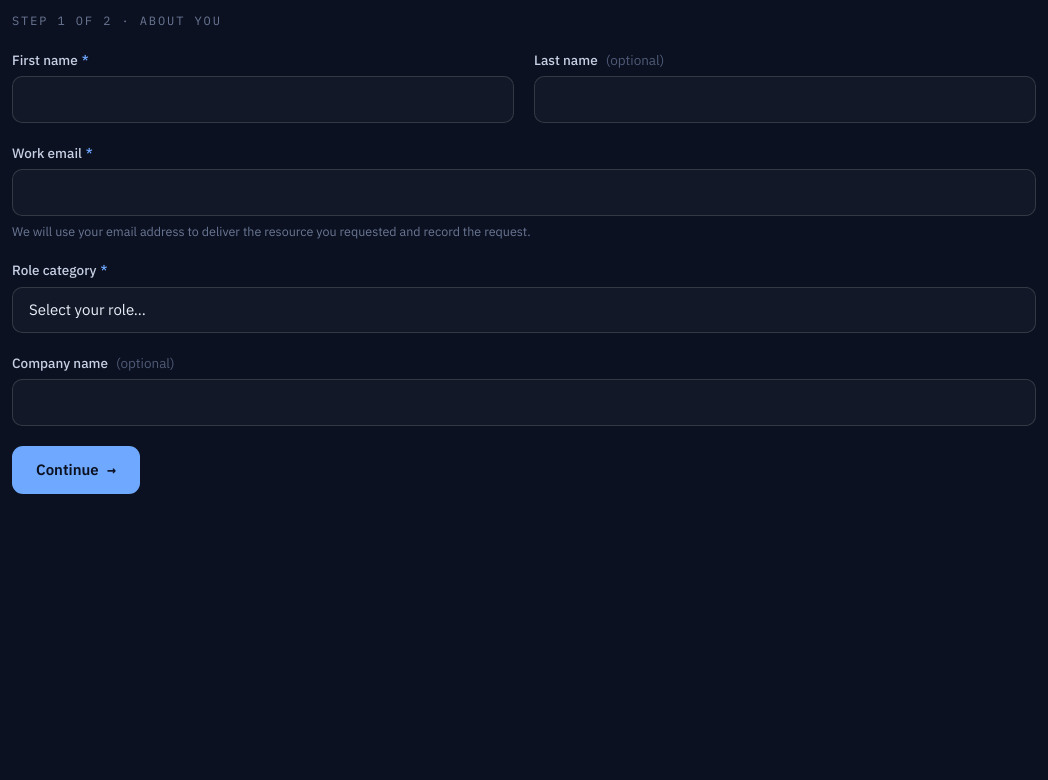
Test: LeadMagnetForm › navigates to step 2 and back with valid input
Type "Ada" into the field labelled "First name*" at (263, 100), box [12,76,514,123]
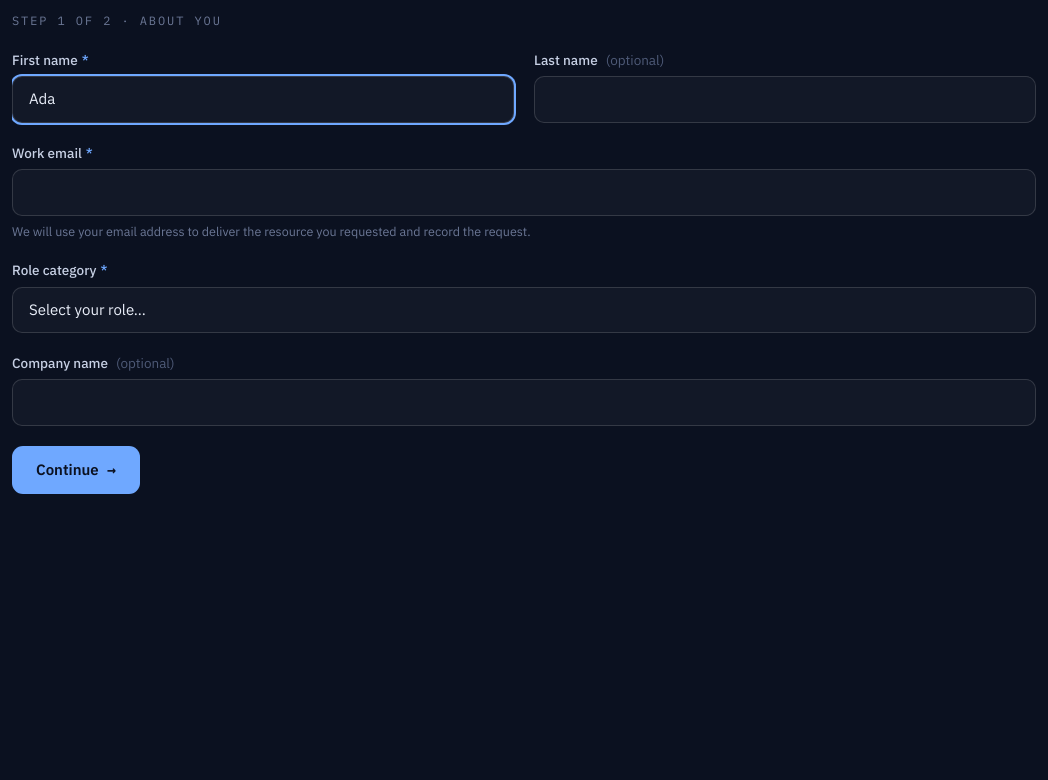
Type "ada@example.com" into the field labelled "Work email*" at (524, 192), box [12,169,1036,216]
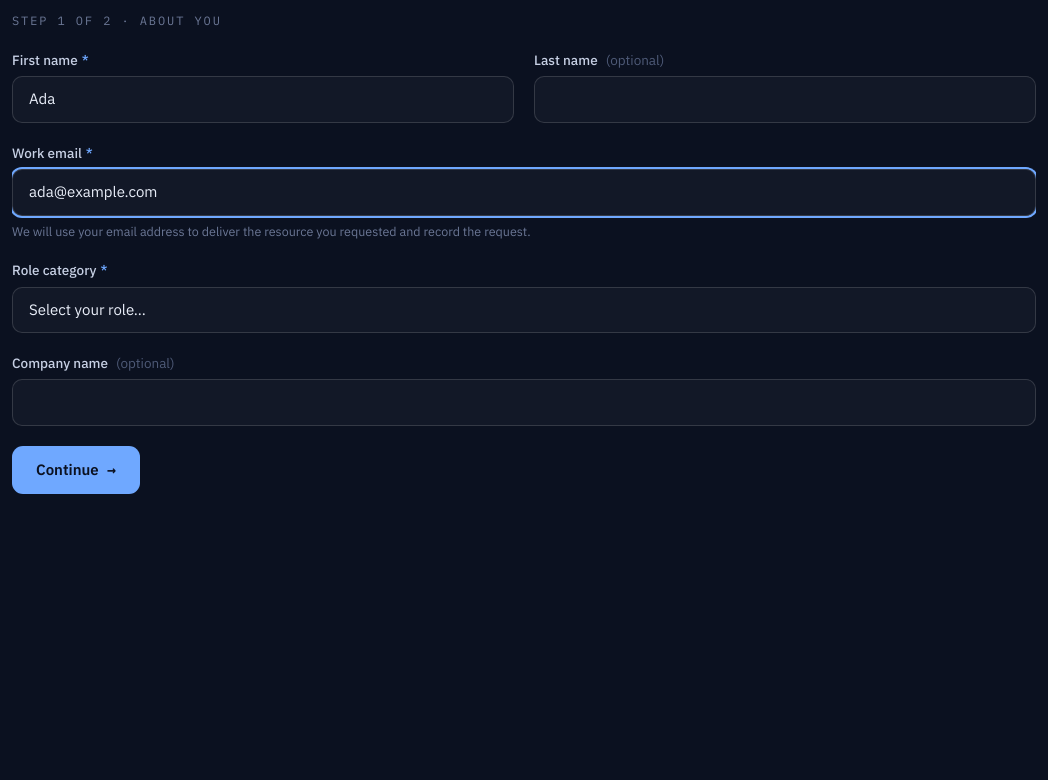
Select "CEO or founder" in the dropdown labelled "Role category*" at (524, 310), box [12,286,1036,333]
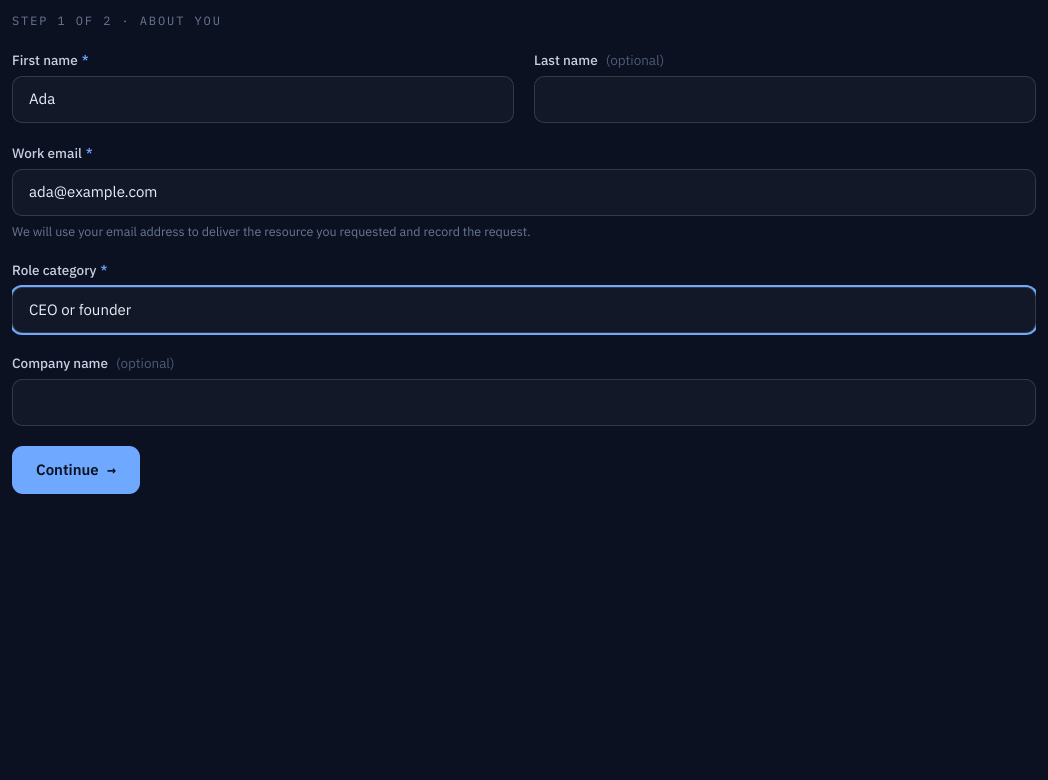
Click the button "Continue →" at (76, 470), box [12,446,140,494]
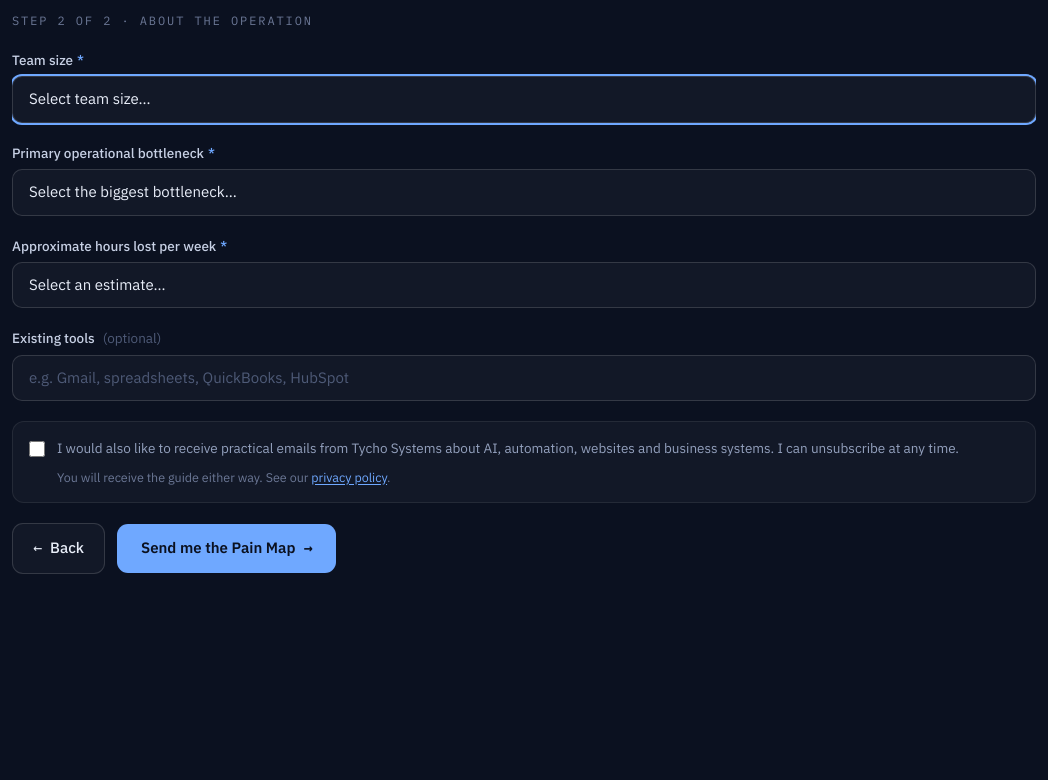
Result: the text "Step 2 of 2 · About the operation" is shown at [12,13,313,28]
Result: the dropdown labelled "Team size*" is shown at [12,76,1036,123]
Click the button "← Back" at (58, 549), box [12,523,105,574]
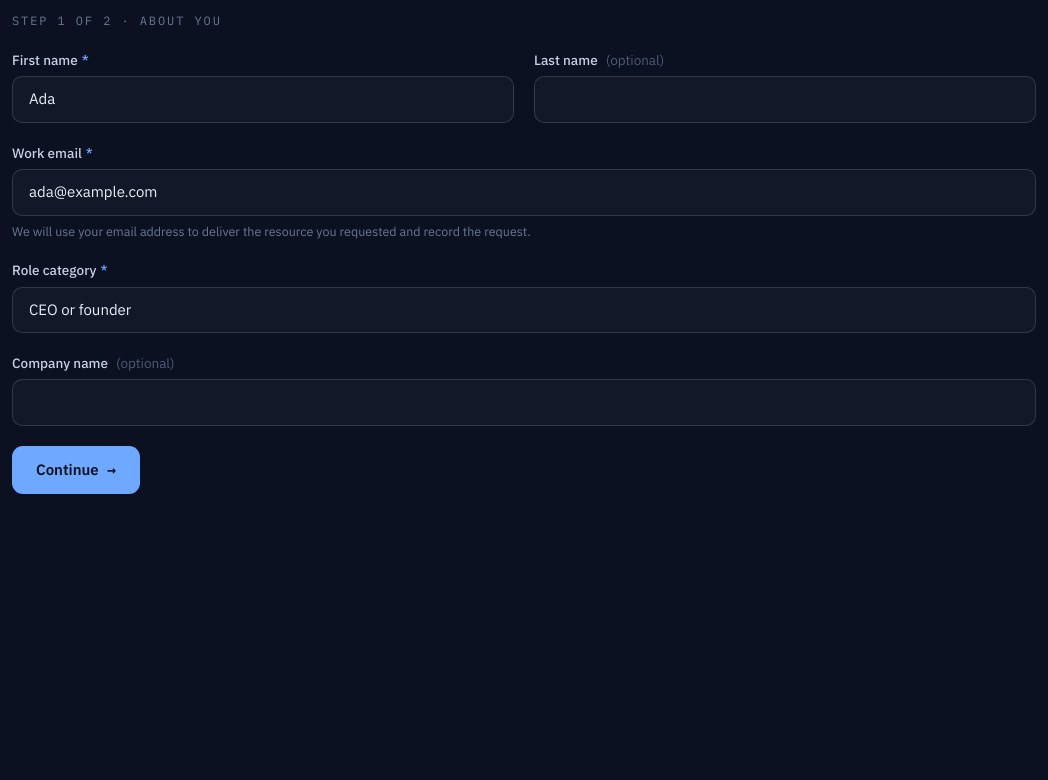
Result: the text "Step 1 of 2 · About you" is shown at [12,13,222,28]
Result: the field labelled "First name*" holds "Ada" at [12,76,514,123]
